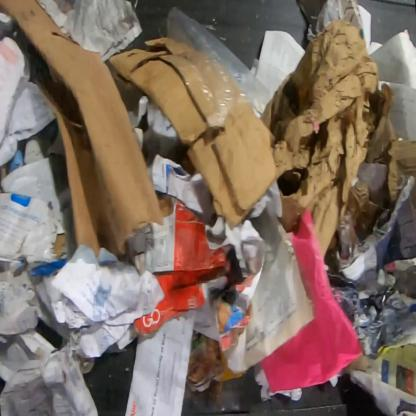cardboard: (0, 0, 172, 260), (108, 37, 280, 231), (261, 19, 380, 261), (126, 196, 232, 336), (387, 136, 415, 204)
soft_plastic: (166, 5, 272, 127)
